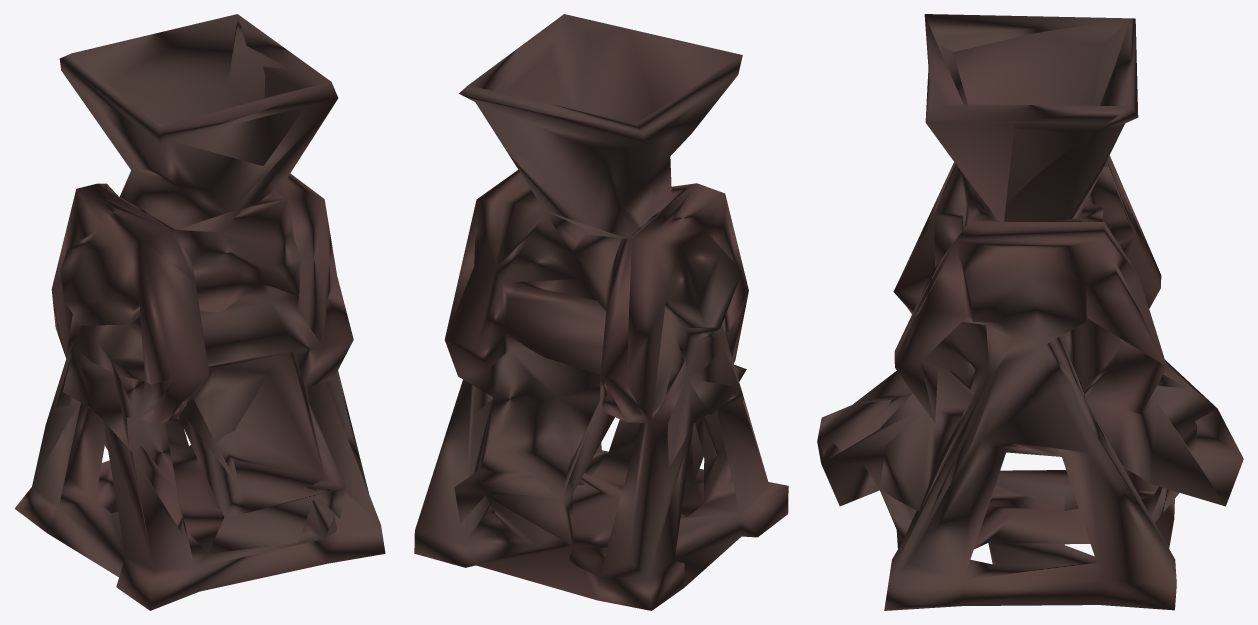
The model's file is gen3d-ore-crusher-lod1.glb.
The picture shows the model from 3 angles, left to right: view 1: azimuth 30°, elevation 25°; view 2: azimuth 150°, elevation 25°; view 3: azimuth 270°, elevation 25°; orthographic projection. The views are drawn at different scales.
Parts seen in each view (by area): view 1: part_0; view 2: part_0; view 3: part_0.
Boxes of the visible parts, left/top/right/bottom form: part_0: left=14, top=14, right=385, bottom=610; part_0: left=414, top=14, right=788, bottom=610; part_0: left=817, top=14, right=1243, bottom=610.
Bounding box in the file's own units: 0.5517 × 0.9987 × 0.7858.
